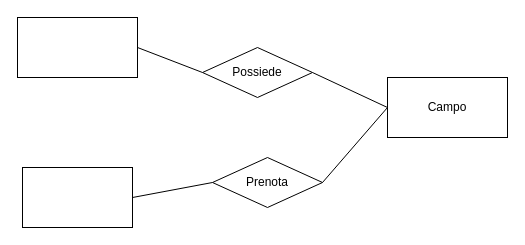
Image size: 525x245. Some labels were removed from this diagram. Here are the shapes that lost their labels. From the top down, the centre of each, then its label:
[77,47]: Gestore
[77,197]: Cliente
